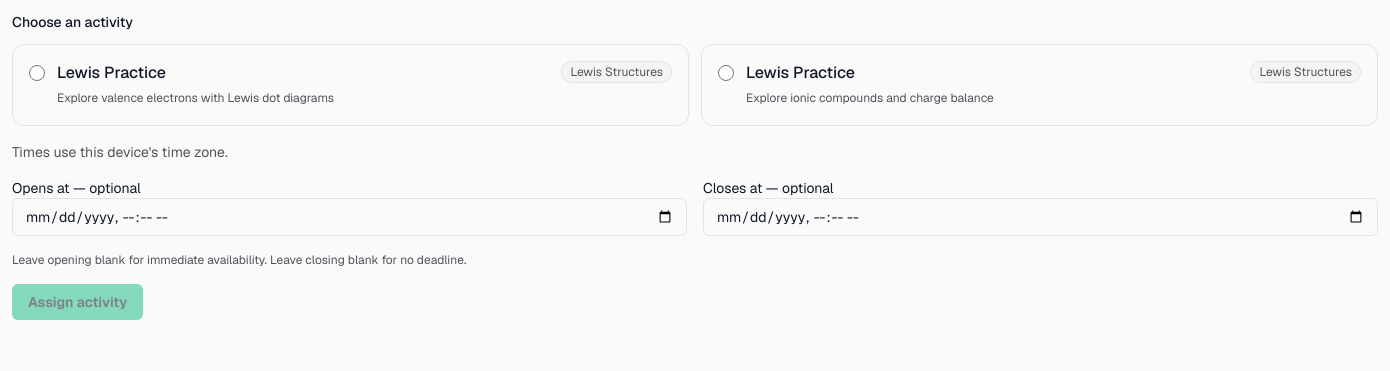
Test: new assignment save feedback › clears selection/dates after success and identifies the activity and class
Click the 1st radio button at (37, 73), box [29,65,45,81]
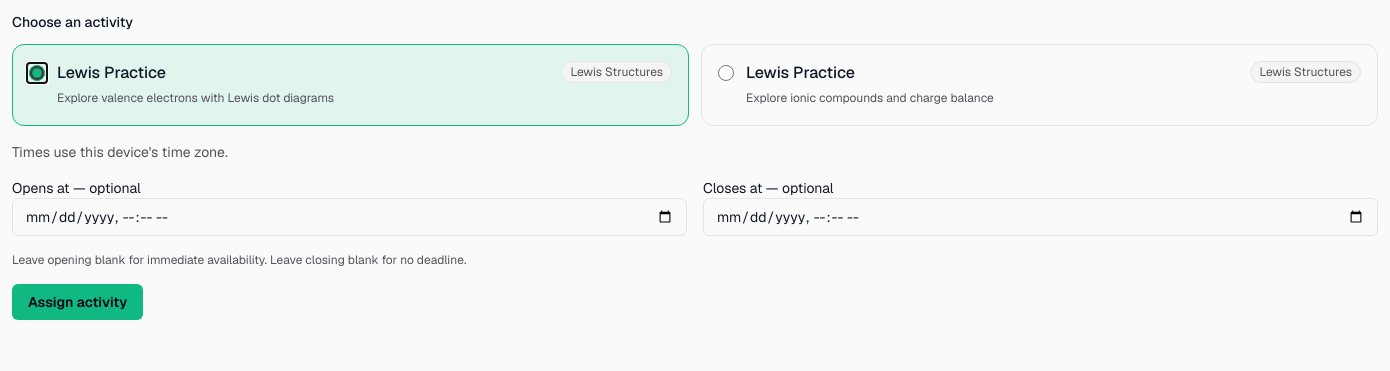
Type "2026-09-12T12:00" into the field labelled "Opens at — optional" at (350, 216), box [12,198,687,236]
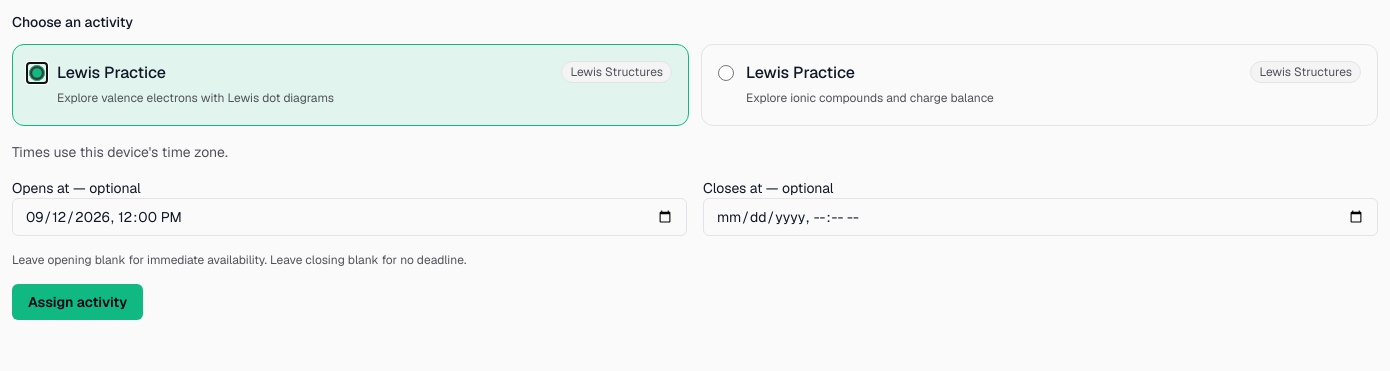
Click the button "Assign activity" at (78, 302), box [12,284,143,320]
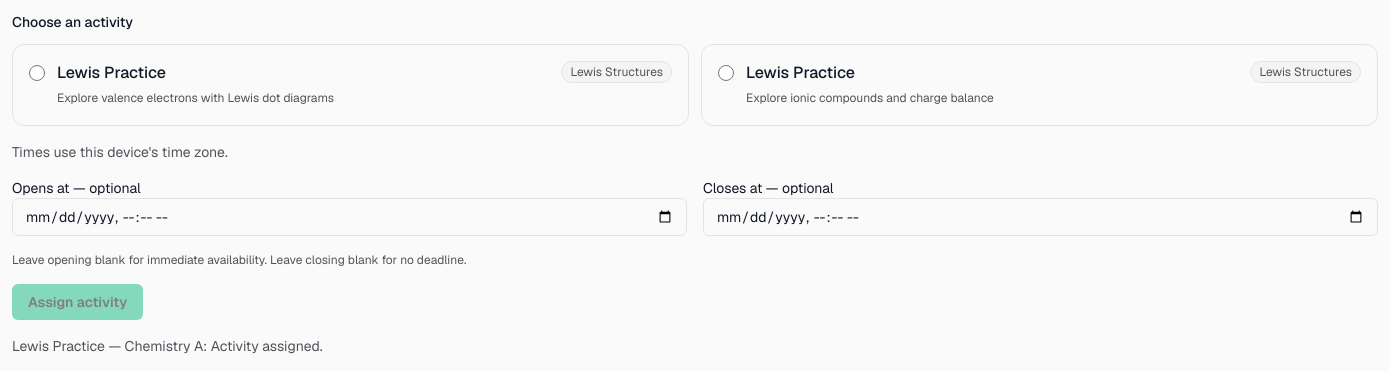
Result: the message reads "Lewis Practice — Chemistry A: Activity assigned." at [12,336,322,354]
Result: the field labelled "Opens at — optional" is empty at [12,198,687,236]
Result: the button "Assign activity" is disabled at [12,284,143,320]
